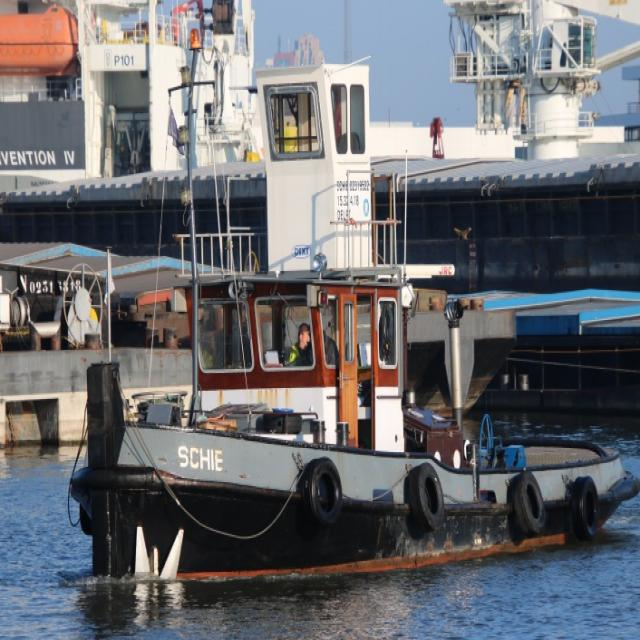tugboat: (68, 54, 640, 603)
